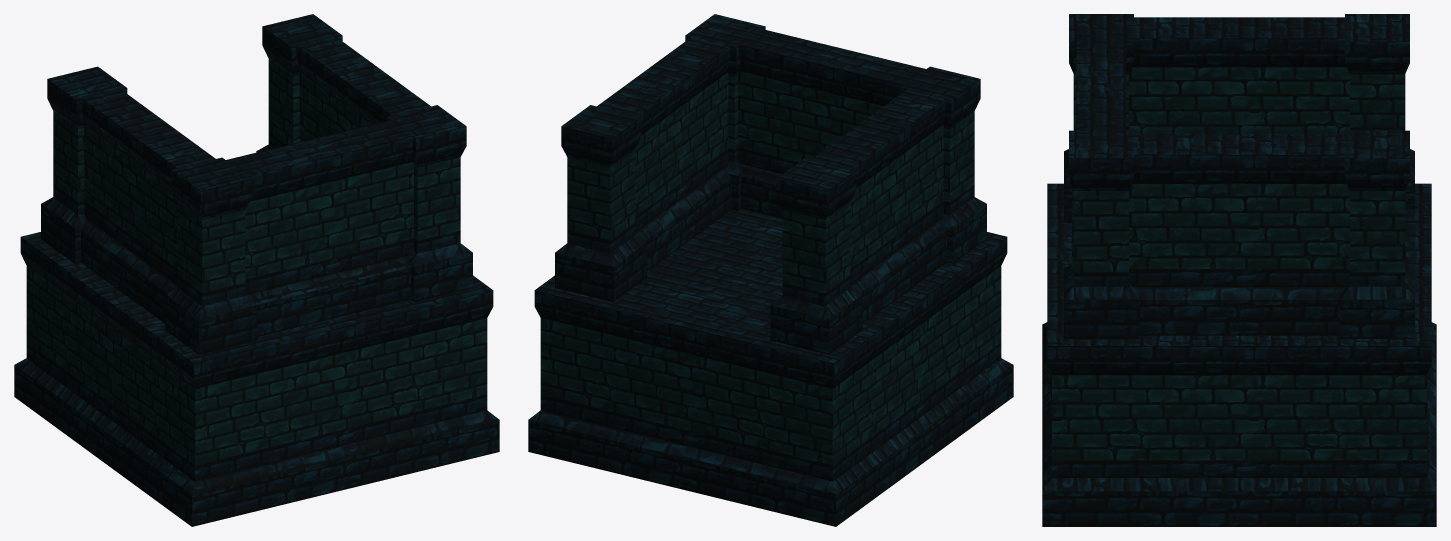
The model's file is dungeon-tile-deadend.glb.
The picture shows the model from 3 angles, left to right: view 1: azimuth 30°, elevation 25°; view 2: azimuth 150°, elevation 25°; view 3: azimuth 270°, elevation 25°; orthographic projection. The views are drawn at different scales.
Visible parts, largest first — view 1: mergedBlocks(Clone); view 2: mergedBlocks(Clone); view 3: mergedBlocks(Clone).
Boxes of the visible parts, <box> form: mergedBlocks(Clone): <box>14,14,499,526</box>; mergedBlocks(Clone): <box>528,14,1013,526</box>; mergedBlocks(Clone): <box>1042,14,1436,526</box>.
Size of the model in its own units: 2 by 2 by 2.
Materials: 2 (2 with a texture image).
